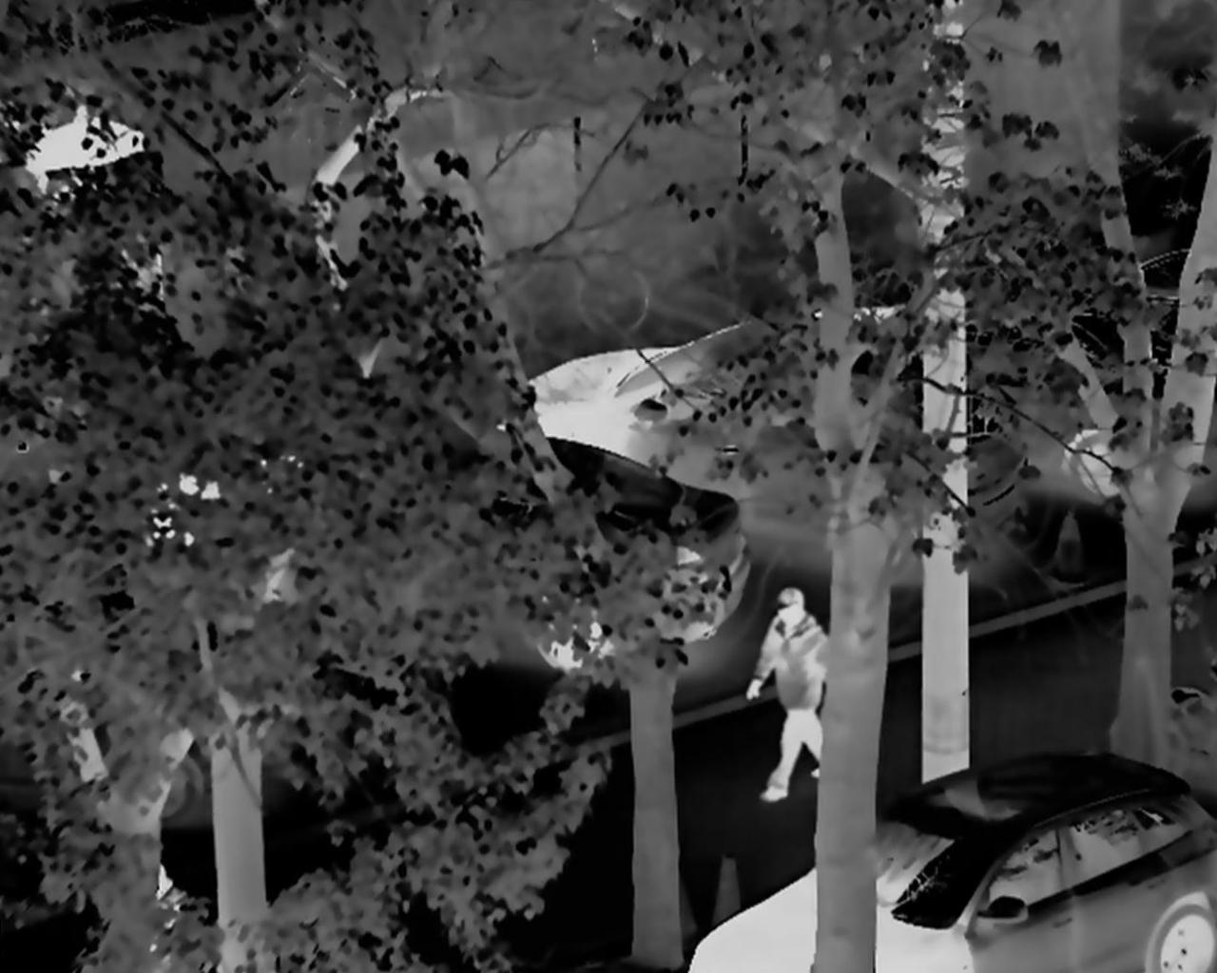person: (748, 581, 838, 803)
